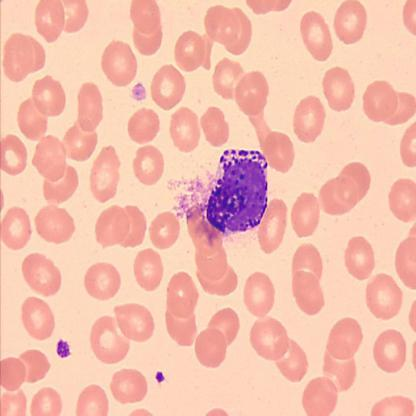Basophil: (203, 145, 271, 238)
